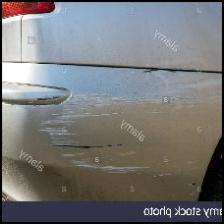bumper_scratch: (37, 76, 183, 190)
